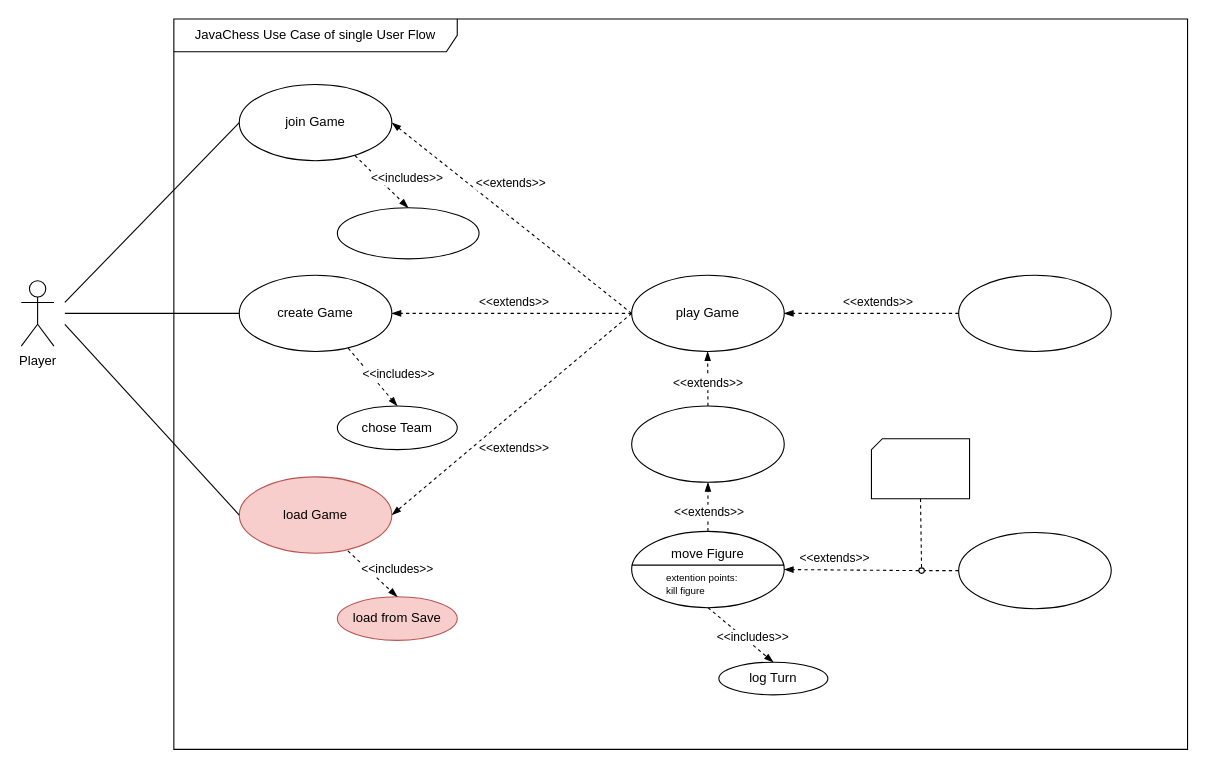
Image size: 1207x768. Some labels were removed from this diagram. Here are the shapes that lost their labels. From the top down, the centre of each, then its label:
At [407,233]: "connect to Server".
At [1034,313]: "end Game".
At [707,443]: "select Figure".
At [920,468]: "if figure moves on a field with a enemy.".
At [1034,570]: "kill Figure".
